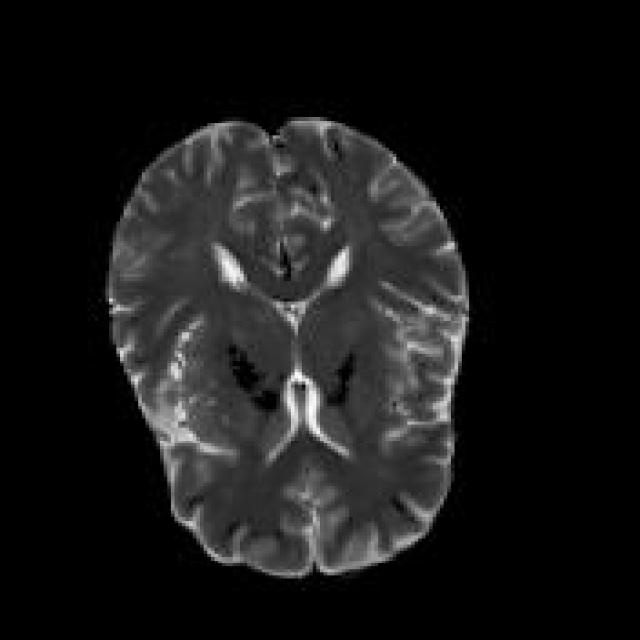parkinson: (102, 111, 473, 578)
